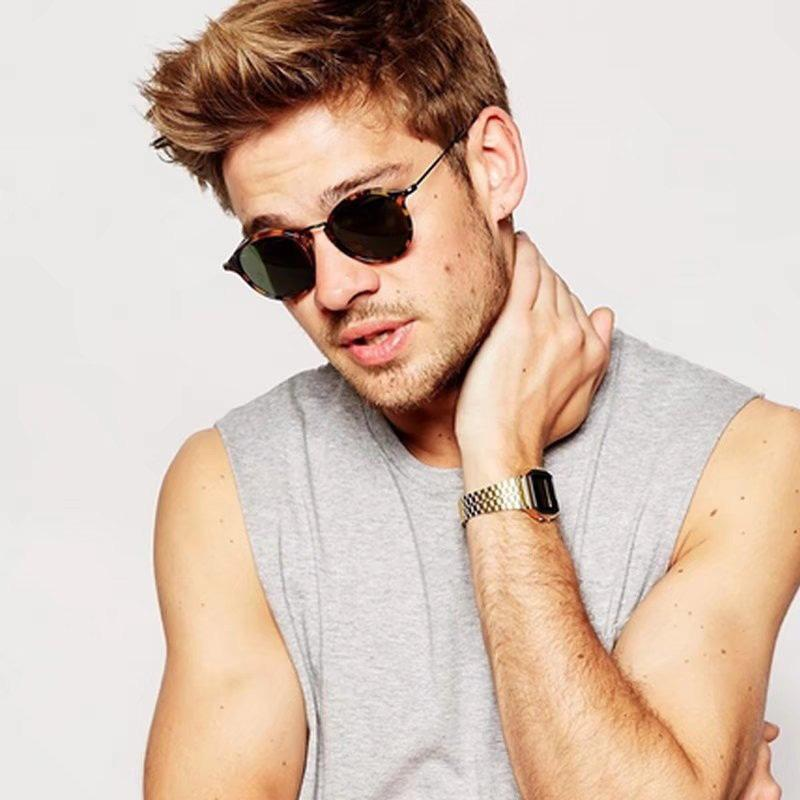sunglasses: (210, 190, 453, 299)
